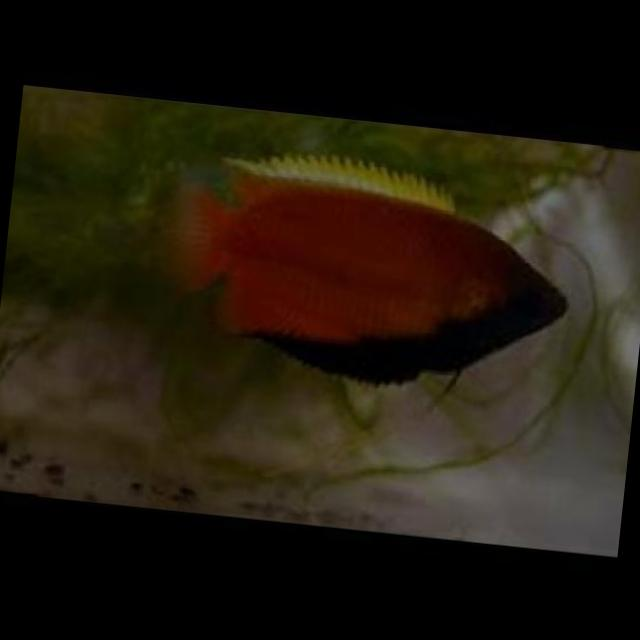Gourami: (150, 142, 584, 402)
